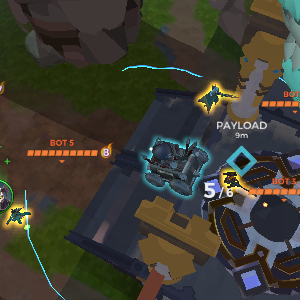model: (198, 82, 223, 116), (225, 166, 250, 194), (5, 207, 28, 228)
